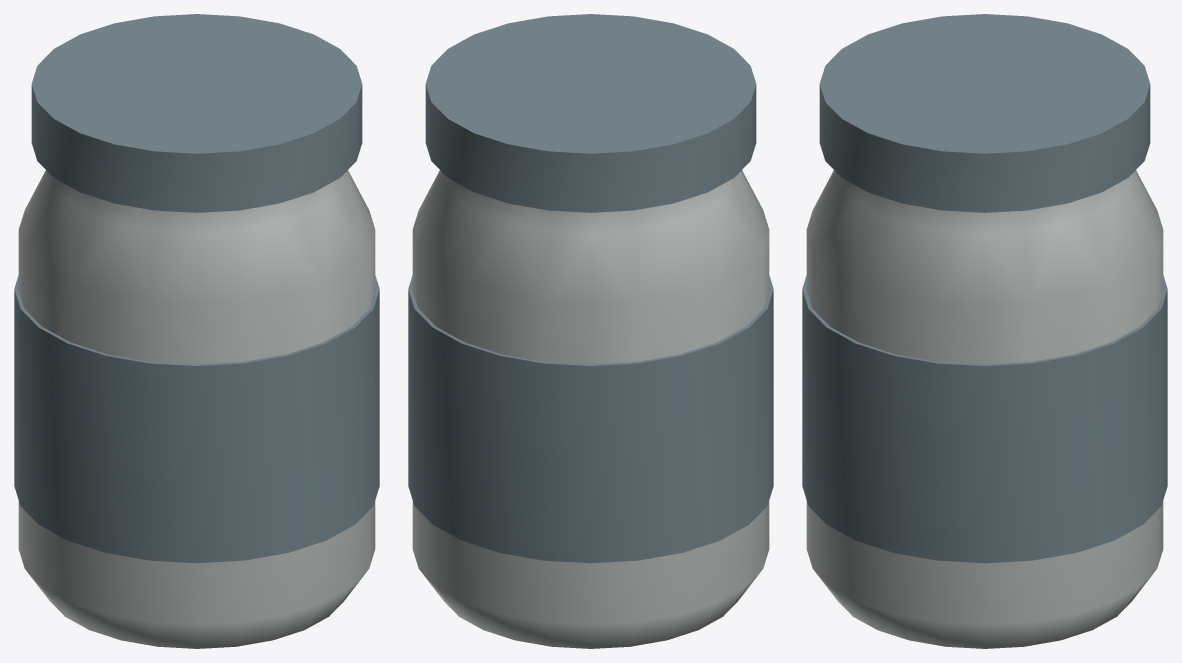
File: jar.glb
3 renders of one model, left to right at view 1: azimuth 30°, elevation 25°; view 2: azimuth 150°, elevation 25°; view 3: azimuth 270°, elevation 25°, orthographic.
Parts seen in each view (by area): view 1: glass_jar, label, screw_lid; view 2: glass_jar, label, screw_lid; view 3: glass_jar, label, screw_lid.
Part boxes in pixels (<box>): glass_jar: <box>18,170,375,648</box>; label: <box>14,275,379,563</box>; screw_lid: <box>31,14,362,212</box>; glass_jar: <box>412,170,769,648</box>; label: <box>408,275,773,563</box>; screw_lid: <box>425,14,756,212</box>; glass_jar: <box>806,170,1163,648</box>; label: <box>802,275,1167,563</box>; screw_lid: <box>819,14,1150,212</box>.
Size of the model in its own units: 0.084 by 0.127 by 0.084.
